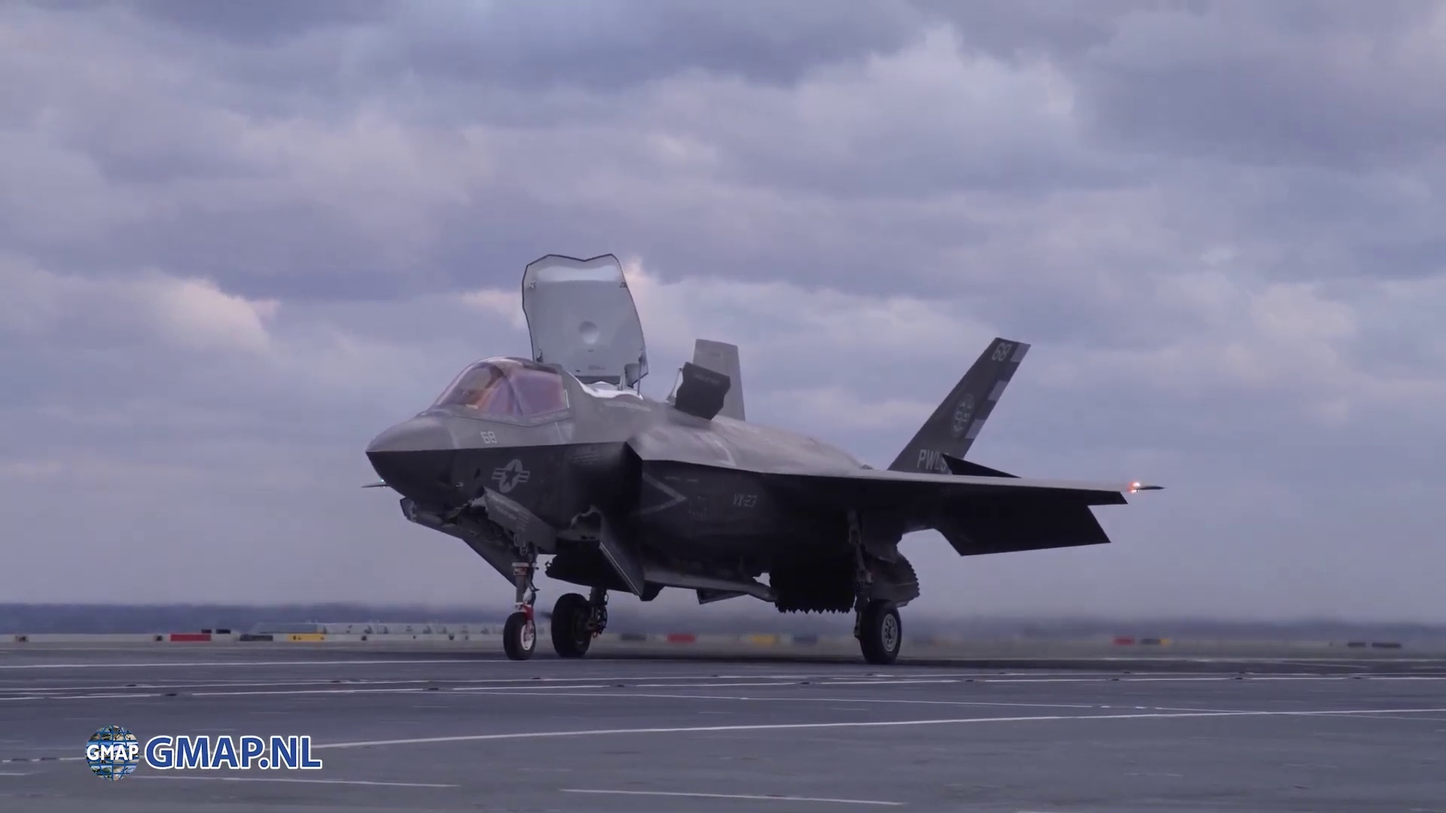F35: (352, 249, 1171, 667)
